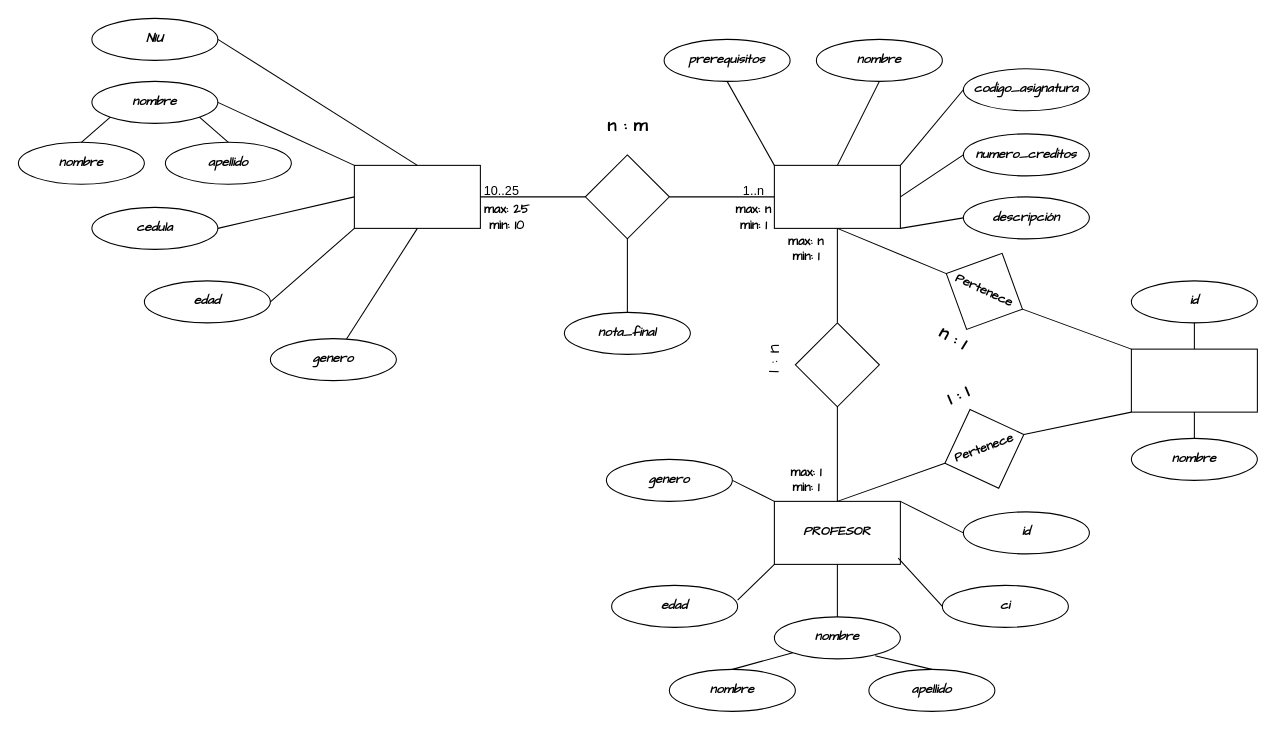
Image size: 1276x730. Some labels were removed from this diagram. The box of each missing label's shape, as (x1, y1, x2, y2) in pixels:
ALUMNO: (353, 164, 480, 228)
ASIGNATURA: (773, 164, 900, 228)
DEPARTAMENTO: (1130, 348, 1257, 412)
Imparte: (794, 322, 879, 407)
Recibe: (584, 154, 669, 239)
